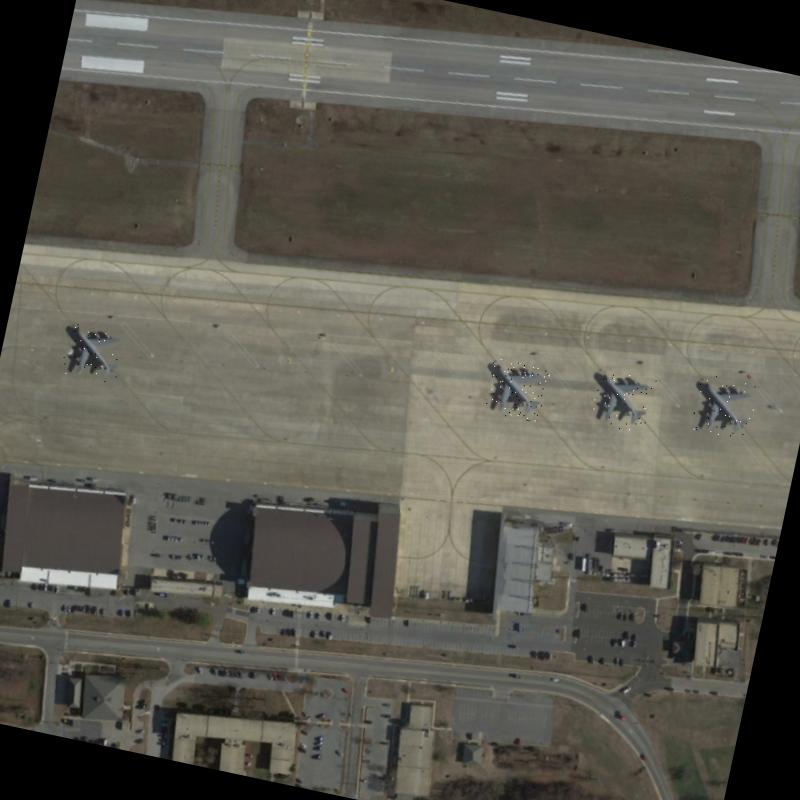A14: (690, 372, 759, 442), (590, 366, 658, 435), (482, 356, 550, 424), (60, 320, 126, 384)
